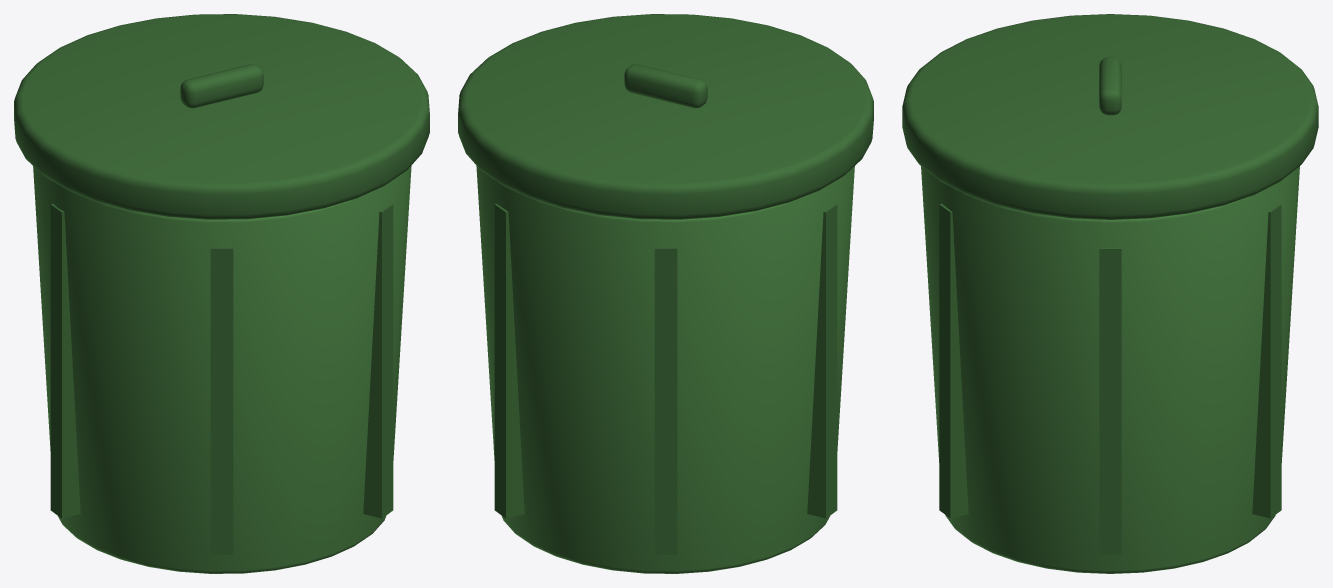
Rendered from trash.glb.
The picture shows the model from 3 angles, left to right: view 1: azimuth 30°, elevation 25°; view 2: azimuth 150°, elevation 25°; view 3: azimuth 270°, elevation 25°; orthographic projection.
Parts seen in each view (by area): view 1: can.038, lid.006, rib.026, rib.027, rib.025, handle.006; view 2: can.038, lid.006, rib.024, rib.023, rib.025, handle.006; view 3: can.038, lid.006, rib.022, rib.023, rib.027, handle.006.
Part boxes in pixels (x1,y1,x2,y2): can.038: (33,165,411,573); lid.006: (14,14,429,219); rib.026: (210,247,233,554); rib.027: (363,204,393,518); rib.025: (50,203,80,518); handle.006: (180,64,263,108); can.038: (476,165,854,573); lid.006: (458,14,873,219); rib.024: (654,247,677,554); rib.023: (494,204,524,518); rib.025: (807,203,837,518); handle.006: (624,64,707,108); can.038: (921,166,1299,573); lid.006: (902,14,1318,219); rib.022: (1099,247,1121,554); rib.023: (1252,203,1281,518); rib.027: (939,203,968,518); handle.006: (1099,57,1121,115).
Bounding box in the file's own units: 0.74 × 0.845 × 0.74.
